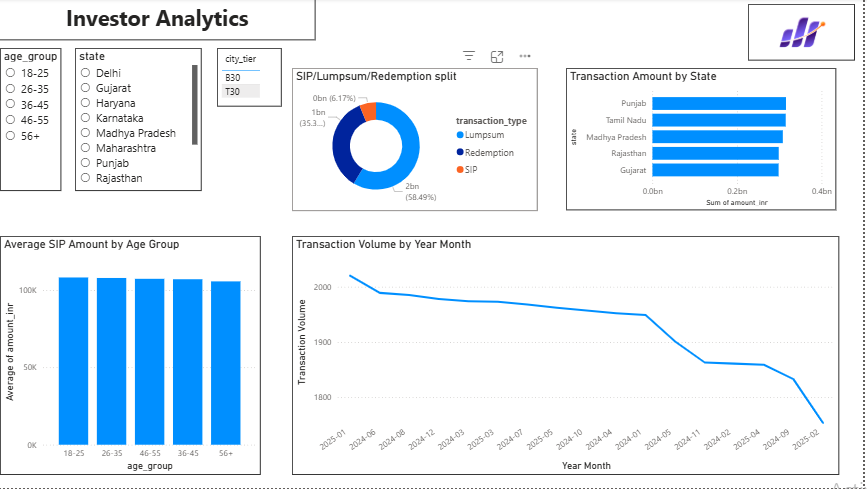

The page's visual inventory and layout, read from the dashboard file:
{"tool":"powerbi","page":{"name":"Investor Analytics","canvas":[1280,720],"ordinal":2},"visuals":[{"type":"listSlicer","fields":{"Values":["clean_investor_transactions.state"]},"box":[121.3,74,186.5,210.1],"z":0},{"type":"listSlicer","fields":{"Values":["clean_investor_transactions.age_group"]},"box":[11.8,74,90.3,210.1],"z":1000},{"type":"tableEx","fields":{"Values":["clean_investor_transactions.city_tier"]},"box":[330,74,94.7,85.8],"z":2000},{"type":"barChart","title":"Transaction Amount by State","fields":{"Category":["clean_investor_transactions.state"],"Y":["Sum(clean_investor_transactions.amount_inr)"]},"box":[843.5,103.6,396.6,208.6],"z":3000},{"type":"donutChart","title":"SIP/Lumpsum/Redemption split","fields":{"Category":["clean_investor_transactions.transaction_type"],"Y":["Sum(clean_investor_transactions.amount_inr)"]},"box":[441,103.6,361.1,210.1],"z":4000},{"type":"clusteredColumnChart","title":"Average SIP Amount by Age Group","fields":{"Category":["clean_investor_transactions.age_group"],"Y":["Avg(clean_investor_transactions.amount_inr)"]},"box":[11.8,349.2,383.3,350.7],"z":5000},{"type":"lineChart","fields":{"Y":["Processed.Transaction Volume"],"Category":["DateTable.Year Month"]},"box":[441,349.2,803.5,350.7],"z":6000},{"type":"textbox","box":[10.4,0,464.6,62.2],"z":6001},{"type":"image","box":[1111.3,8.9,156.9,82.9],"z":6002}]}

Visuals, with their boxes in screenshot pixels (x1, y1, x2, y2), scaled from the page's 1280x720 canvas onto the 867x489 screenshot:
listSlicer - clean_investor_transactions.state: 82/50/208/193
listSlicer - clean_investor_transactions.age_group: 8/50/69/193
tableEx - clean_investor_transactions.city_tier: 224/50/288/109
"Transaction Amount by State" barChart: 571/70/840/212
"SIP/Lumpsum/Redemption split" donutChart: 299/70/543/213
"Average SIP Amount by Age Group" clusteredColumnChart: 8/237/268/475
lineChart - Processed.Transaction Volume x DateTable.Year Month: 299/237/843/475
textbox: 7/0/322/42
image: 753/6/859/62
